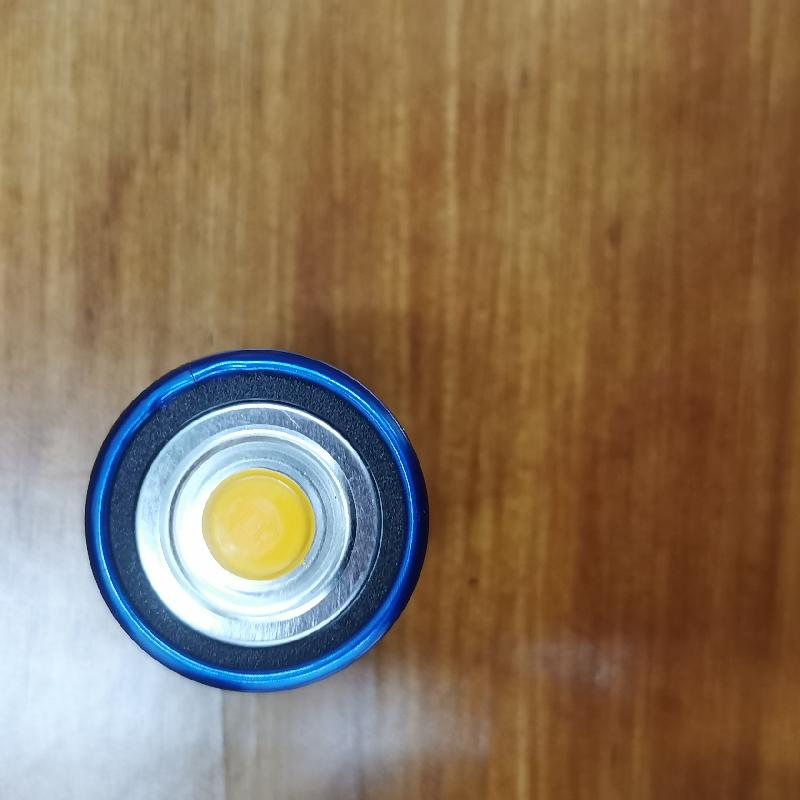battery: (73, 345, 429, 691)
